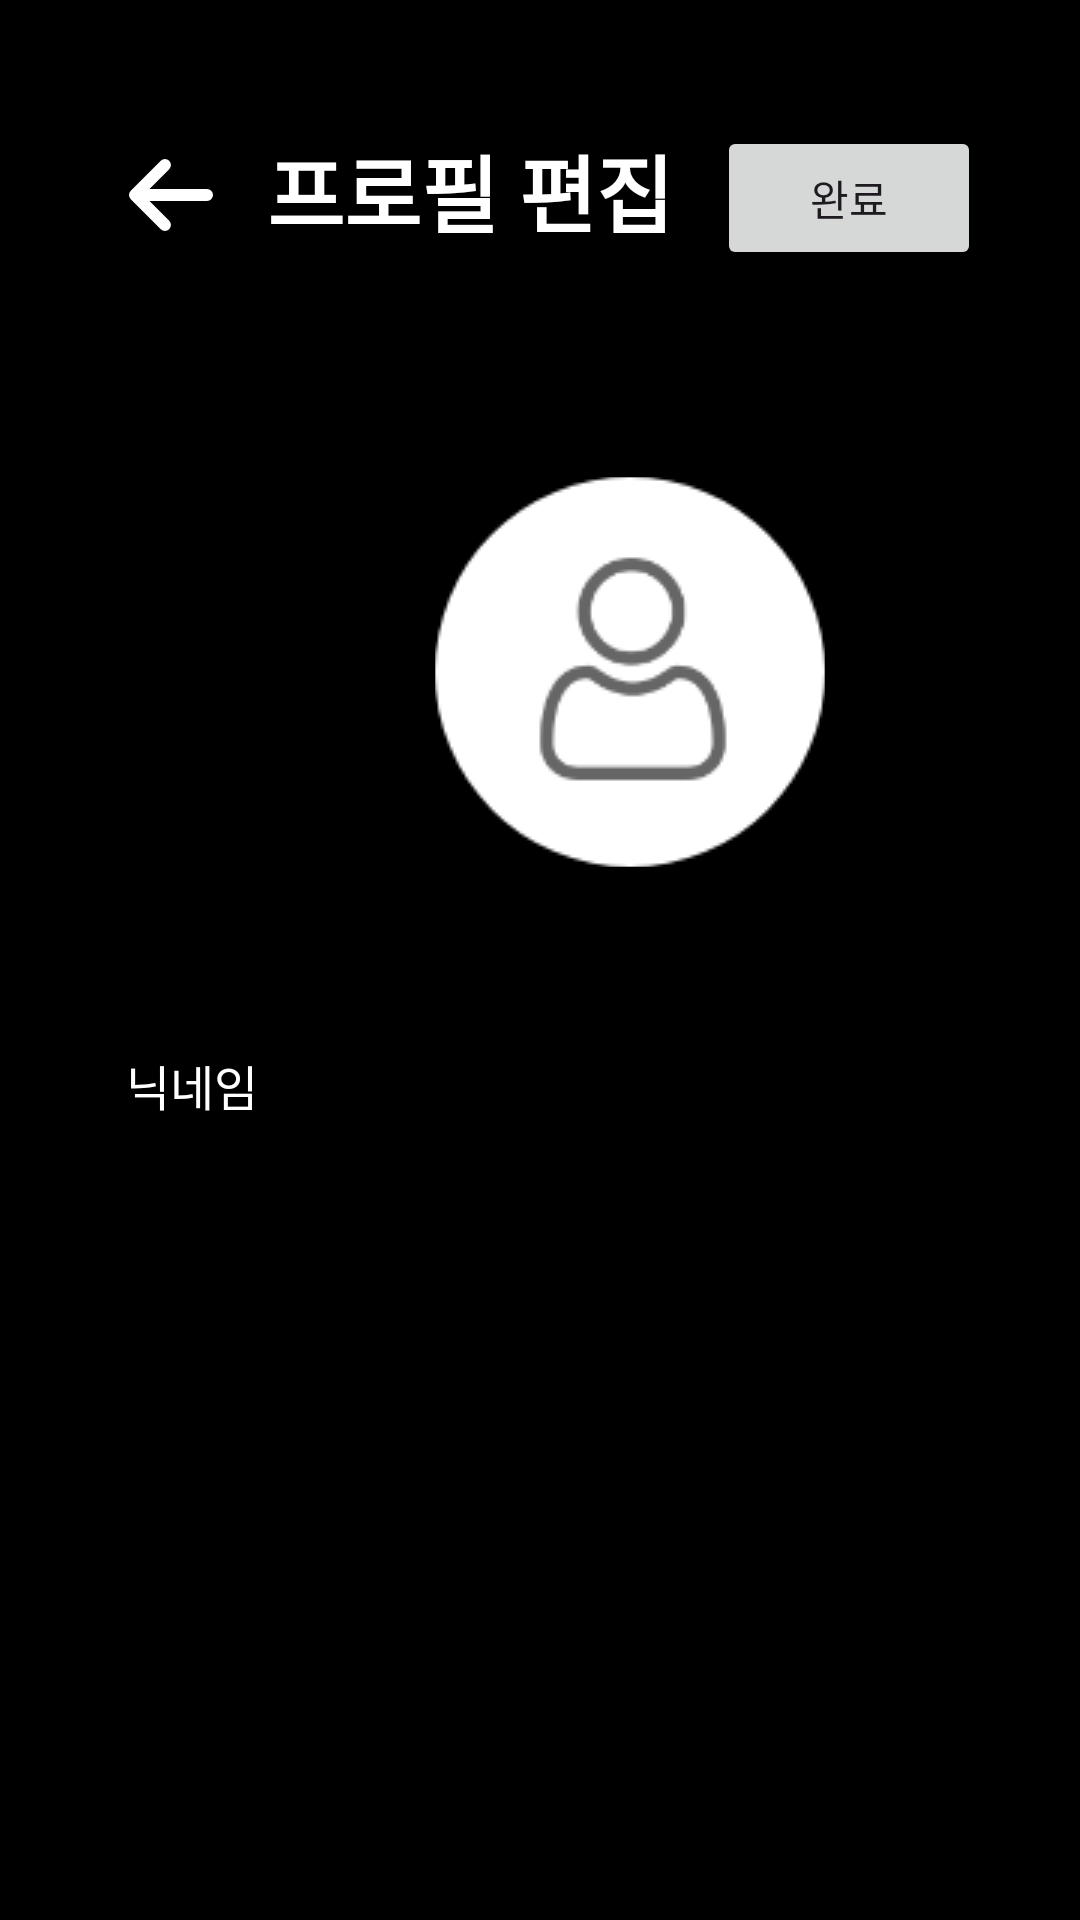

Icons on this 1080px x 1920px Android screen, each with the point to tap as [x,y]:
arrow left: [171,195]
